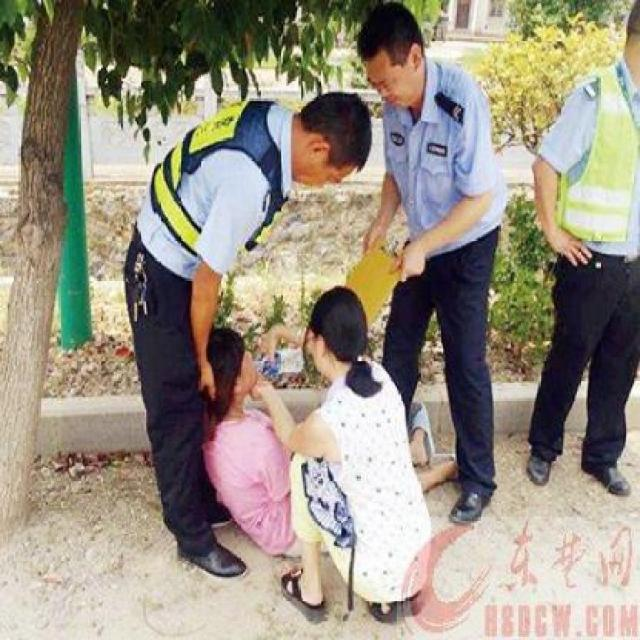fall: (185, 318, 328, 571)
